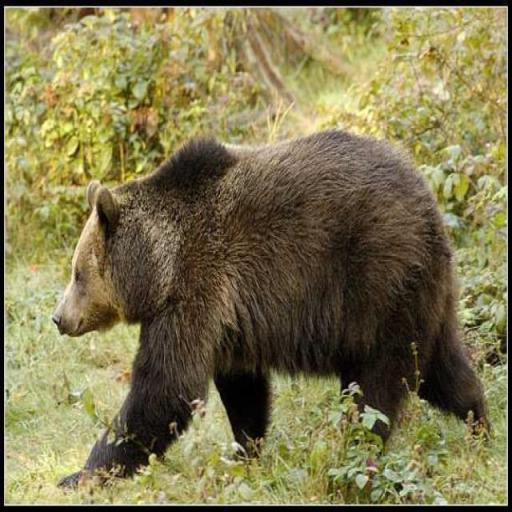Bear: (51, 127, 491, 491)
